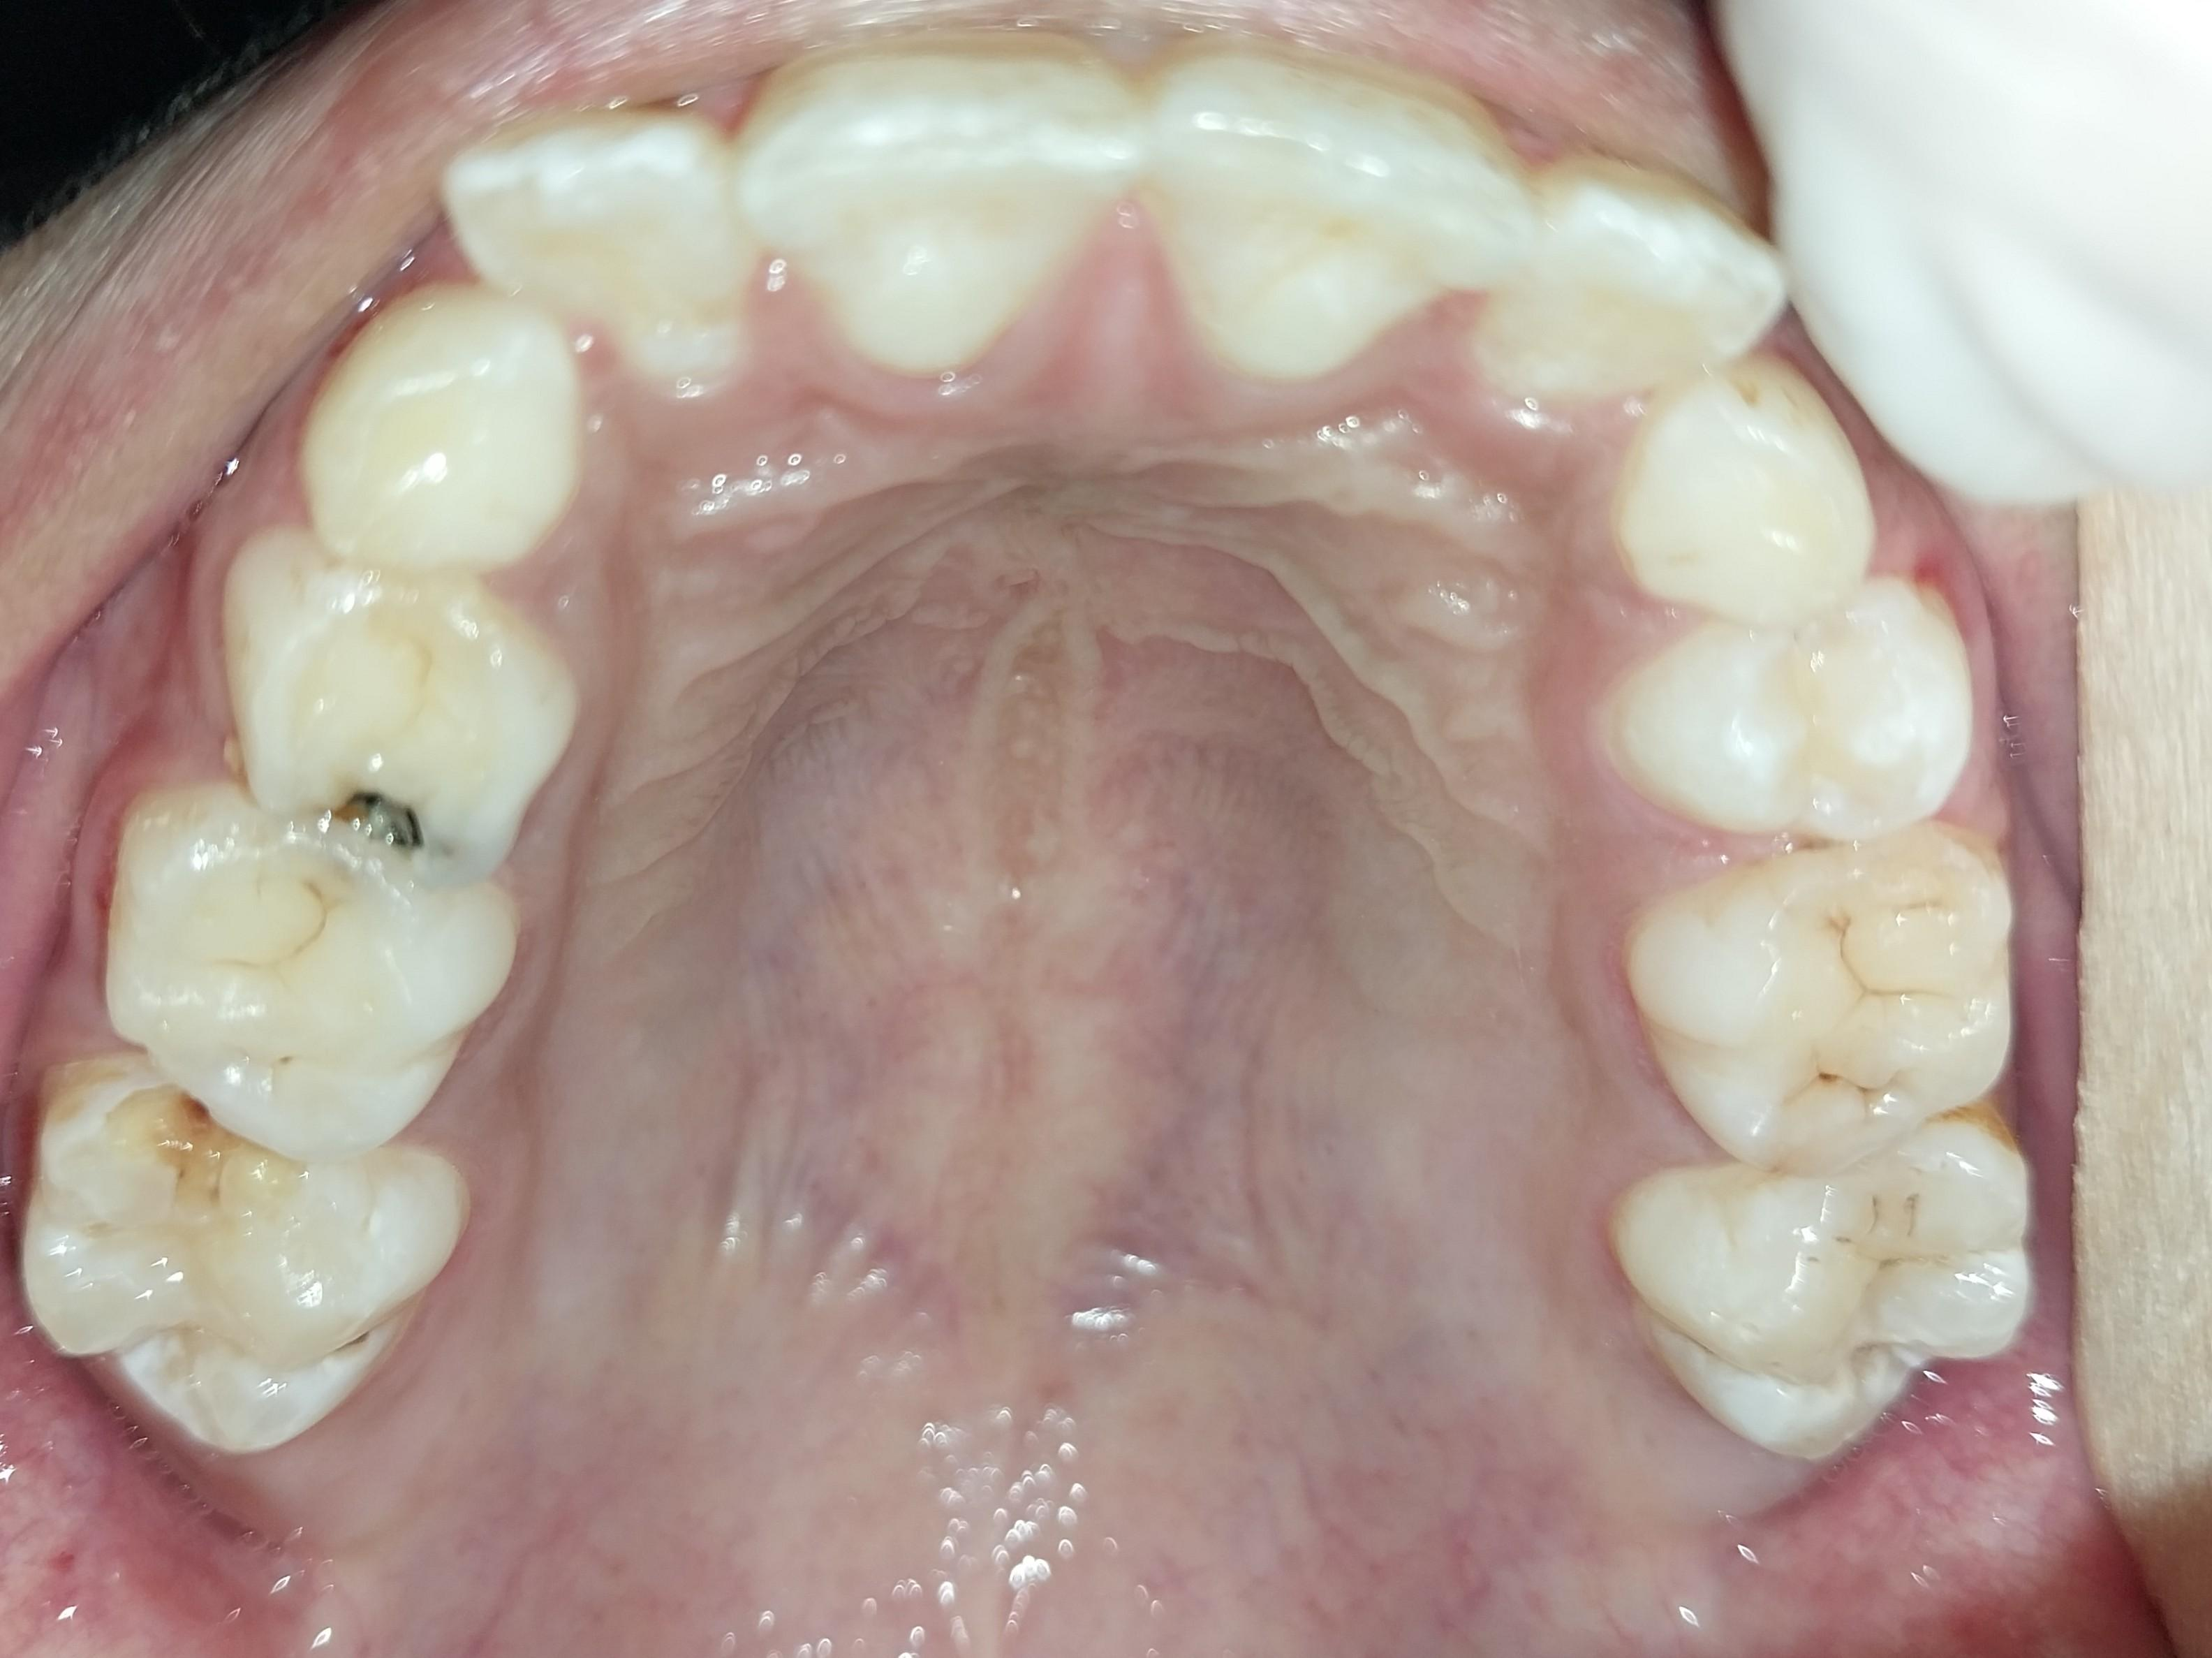D: (22, 1058, 469, 1483), (1598, 1105, 2044, 1477)
d: (195, 541, 598, 888), (1639, 826, 2014, 1156)
